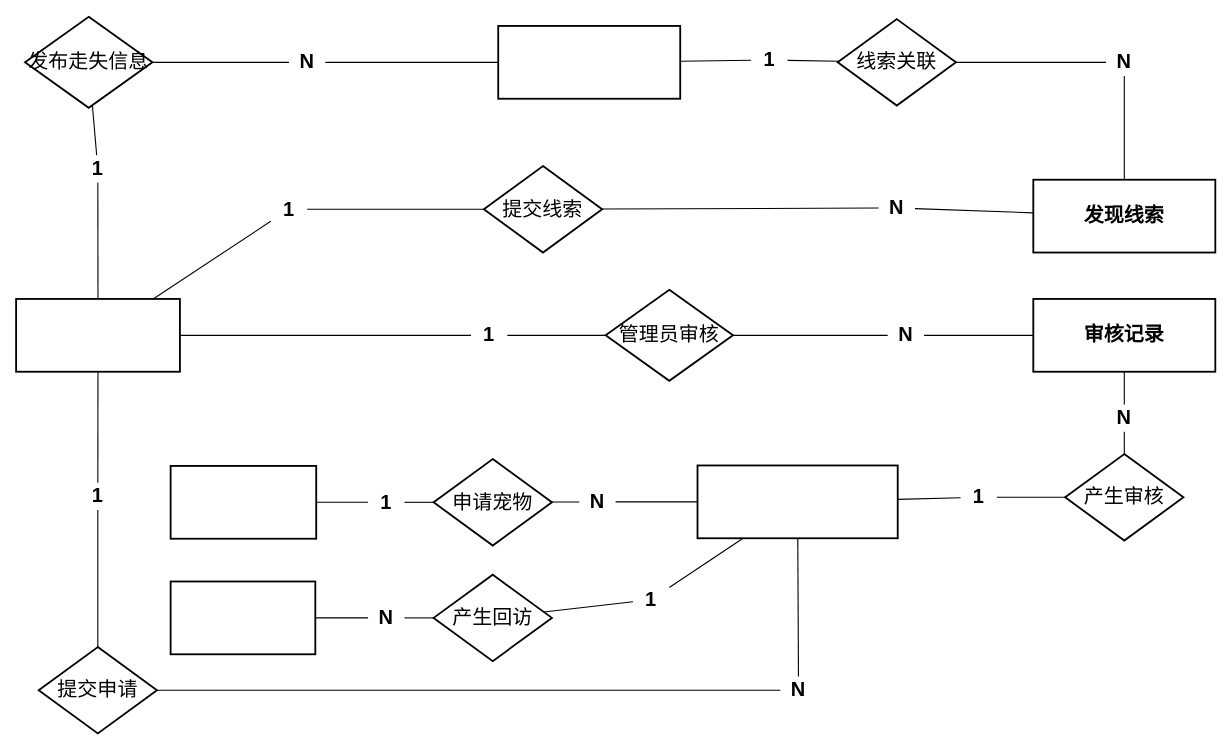
This 1232x750 diagram has some shape labels left out. The centre of each missing label's shape, as x and y in pixels:
"可领养宠物" goes at point 243,502.
"回访提醒" goes at point 242,617.
"用户" goes at point 97,335.
"走失宠物" goes at point 589,62.
"领养申请" goes at point 797,501.
